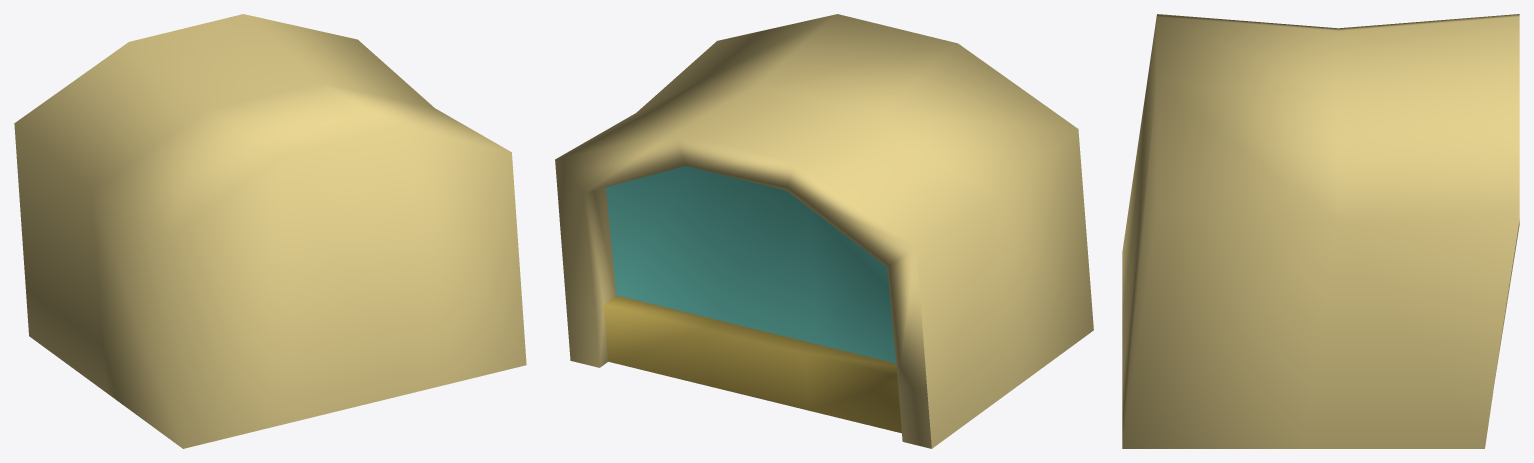
Rendered from Building_C_4.fbx.
3 views of the same model, side by side, from view 1: azimuth 30°, elevation 25°; view 2: azimuth 150°, elevation 25°; view 3: azimuth 270°, elevation 25° (orthographic). The views are drawn at different scales.
Visible parts, largest first — view 1: Building_C_4; view 2: Building_C_4; view 3: Building_C_4.
Boxes of the visible parts, x1=… form: Building_C_4: x1=14, y1=14, x2=526, y2=448; Building_C_4: x1=555, y1=14, x2=1093, y2=448; Building_C_4: x1=1122, y1=14, x2=1519, y2=448.
Bounding box in the file's own units: 143 × 102 × 122.
